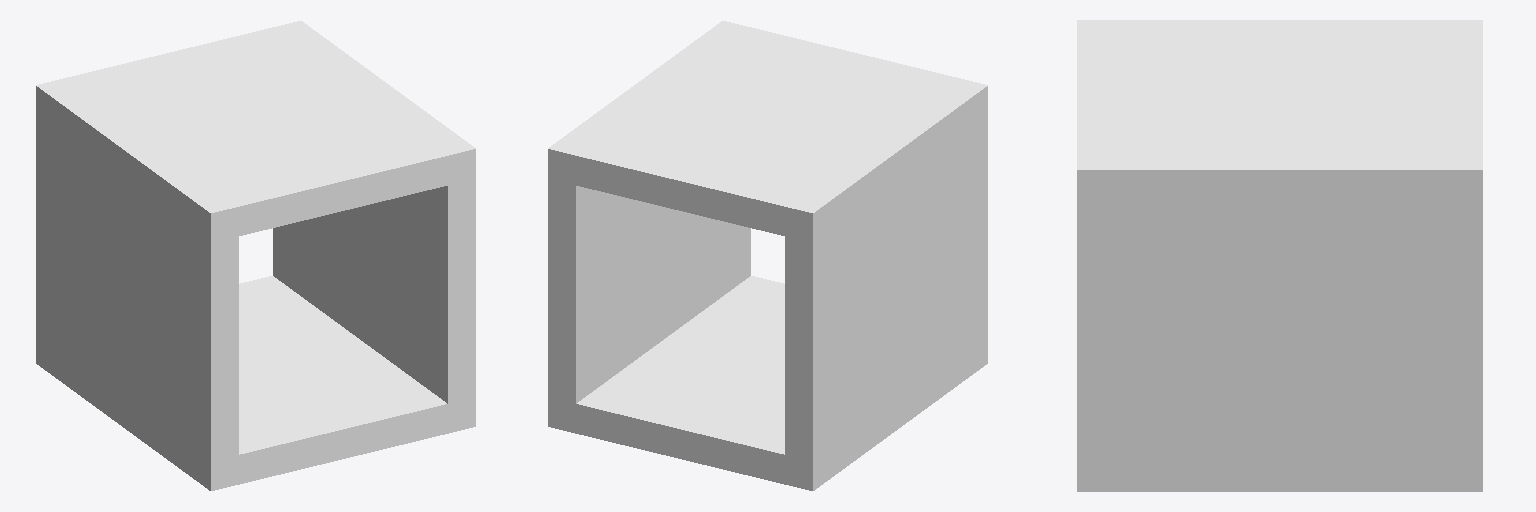
The robot description file, URDF, robot "hollowPrism":
<robot
  name="hollowPrism">
  <link
    name="hollowPrism">
    <inertial>
      <origin
        xyz="1.1626E-17 -0.04 -3.42387872923552E-17"
        rpy="0 0 0" />
      <mass
        value="0.15" />
      <inertia
        ixx="0.0001790625"
        ixy="-1.58112816820803E-20"
        ixz="2.74041134113818E-21"
        iyy="0.000198125"
        iyz="-1.16720293098696E-21"
        izz="0.0001790625" />
    </inertial>
    <visual>
      <origin
        xyz="0 0 0"
        rpy="1.5707963267949 0 0" />
      <geometry>
        <mesh
          filename="package://hollowPrism/meshes/hollowPrism.STL" />
      </geometry>
      <material
        name="">
        <color
          rgba="1 1 1 1" />
      </material>
    </visual>
    <collision>
      <origin
        xyz="0 0 0"
        rpy="1.5707963267949 0 0" />
      <geometry>
        <mesh
          filename="package://hollowPrism/meshes/hollowPrism.STL" />
      </geometry>
    </collision>
  </link>
</robot>

--- Render facts (derived) ---
The picture shows the robot from 3 angles, left to right: view 1: azimuth 30°, elevation 25°; view 2: azimuth 150°, elevation 25°; view 3: azimuth 270°, elevation 25°; orthographic projection.
Robot: hollowPrism — 1 links, 0 joints (none); root link hollowPrism; default pose: every joint at zero.
Links seen in each view (by area): view 1: hollowPrism; view 2: hollowPrism; view 3: hollowPrism.
Boxes of the visible links, x1,y1,x2,y2 form: hollowPrism: [36, 21, 475, 490]; hollowPrism: [548, 21, 987, 490]; hollowPrism: [1077, 20, 1482, 491].
Bounding box of the posed robot: 0.07 × 0.08 × 0.07 m (x, y, z).
Meshes: 1 distinct files referenced, 1 mesh visuals loaded (1 binary STL).